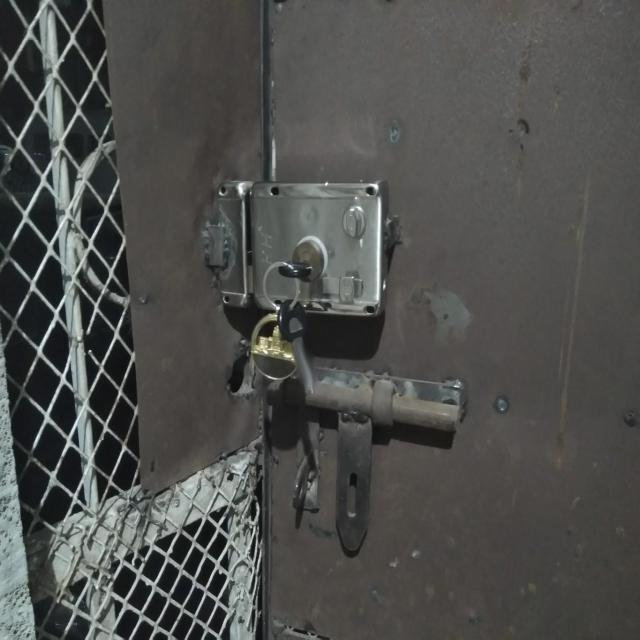Frontdoor keys: (273, 286, 336, 406)
